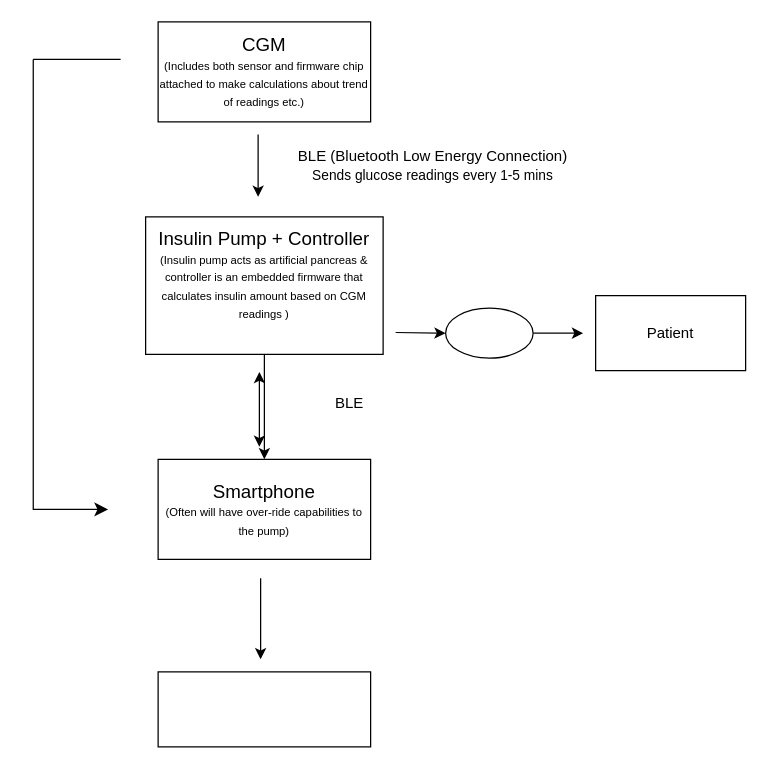
This 768x769 diagram has some shape labels left out. Here are the shapes that lost their labels. From the top down, the box of each, then its label:
(444, 307, 533, 358): Insulin amount calculation
(157, 671, 371, 747): Cloud/Data Storage
